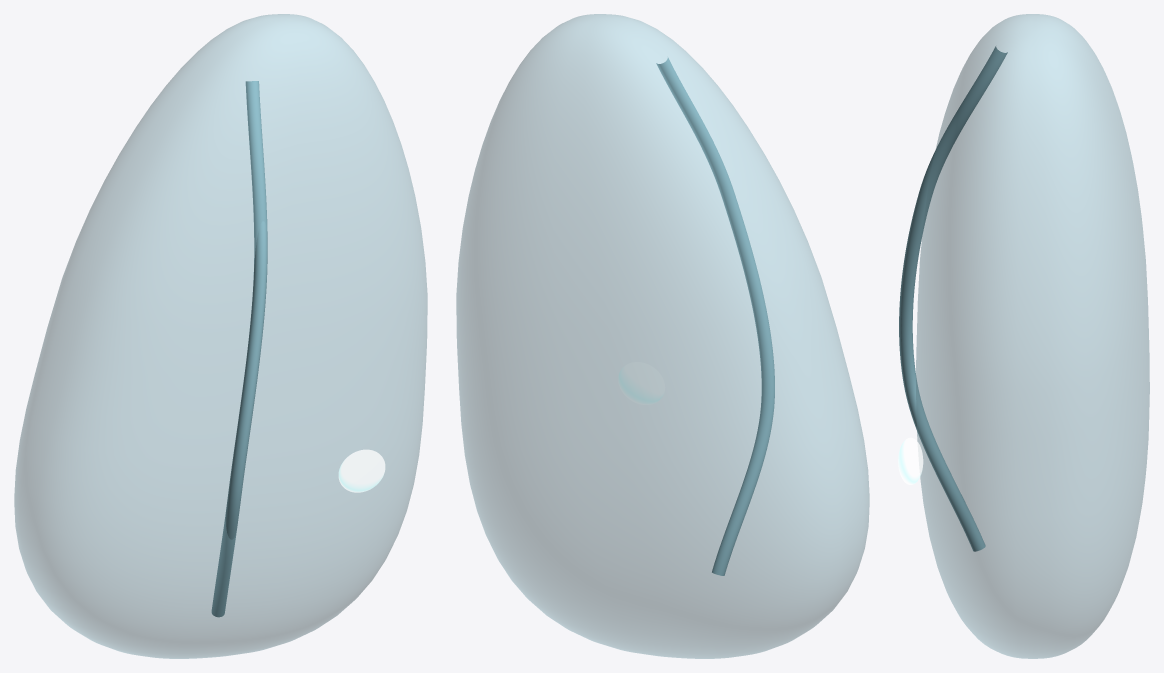
The picture shows the model from 3 angles, left to right: view 1: azimuth 30°, elevation 25°; view 2: azimuth 150°, elevation 25°; view 3: azimuth 270°, elevation 25°; orthographic projection. The views are drawn at different scales.
Parts seen in each view (by area): view 1: seed-button, seed-seam, seed-status-dew; view 2: seed-button, seed-seam, seed-status-dew; view 3: seed-button, seed-seam, seed-status-dew.
Boxes of the visible parts, <box> form: seed-button: <box>14,14,427,658</box>; seed-seam: <box>211,81,267,617</box>; seed-status-dew: <box>338,449,385,492</box>; seed-button: <box>456,14,869,658</box>; seed-seam: <box>656,58,774,575</box>; seed-status-dew: <box>618,362,664,404</box>; seed-button: <box>916,14,1149,658</box>; seed-seam: <box>899,46,1007,551</box>; seed-status-dew: <box>898,437,923,484</box>.
Bounding box in the file's own units: 1.19 × 1.82 × 0.6593.
